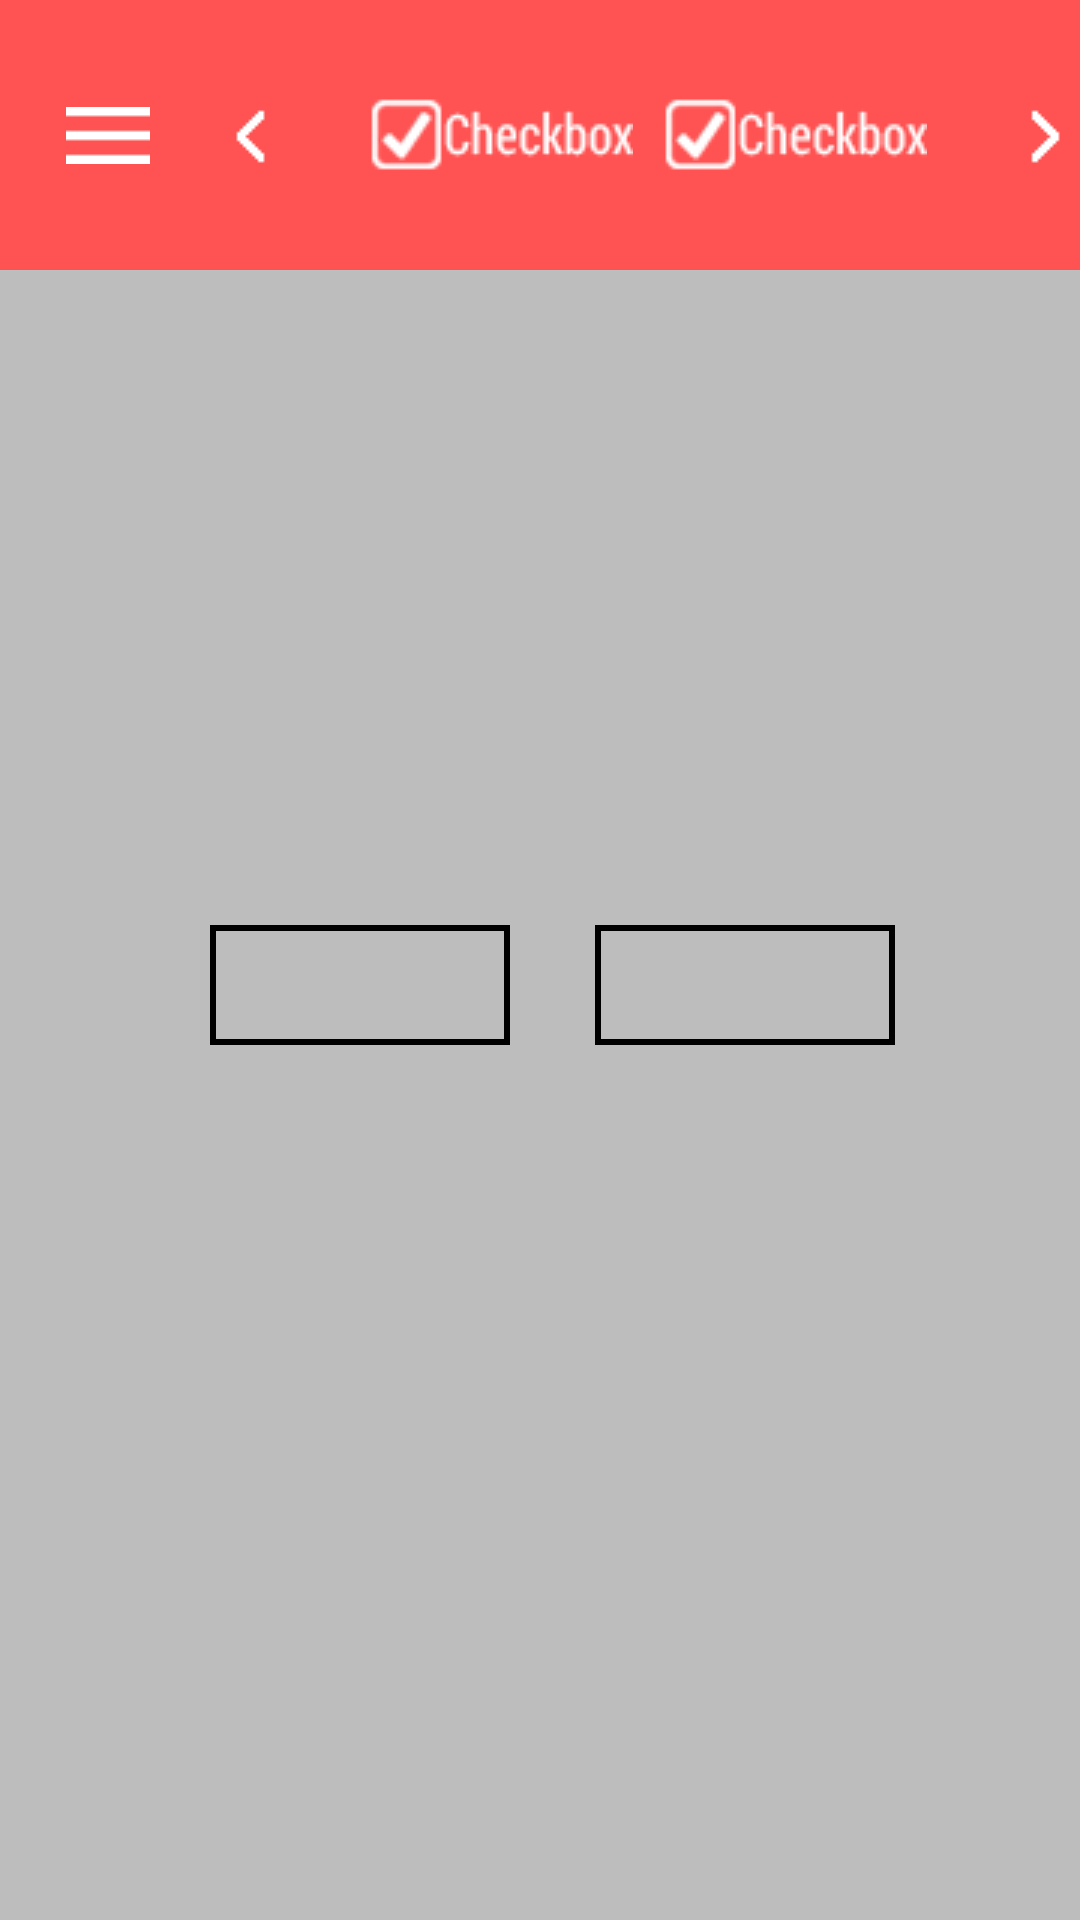

Point at icon controls on the screen. Image size 1080*1920, points as (x=x, y=y).
arrowl: (x=250, y=136)
arrowr: (x=1045, y=136)
menu: (x=108, y=135)
